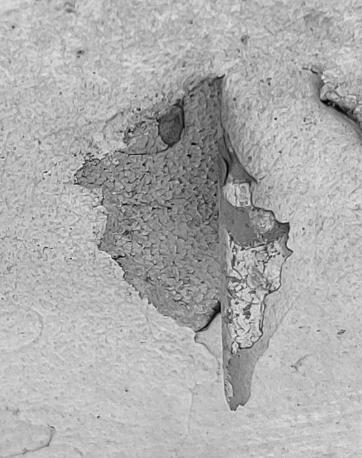paint-off: (1, 0, 361, 458)
